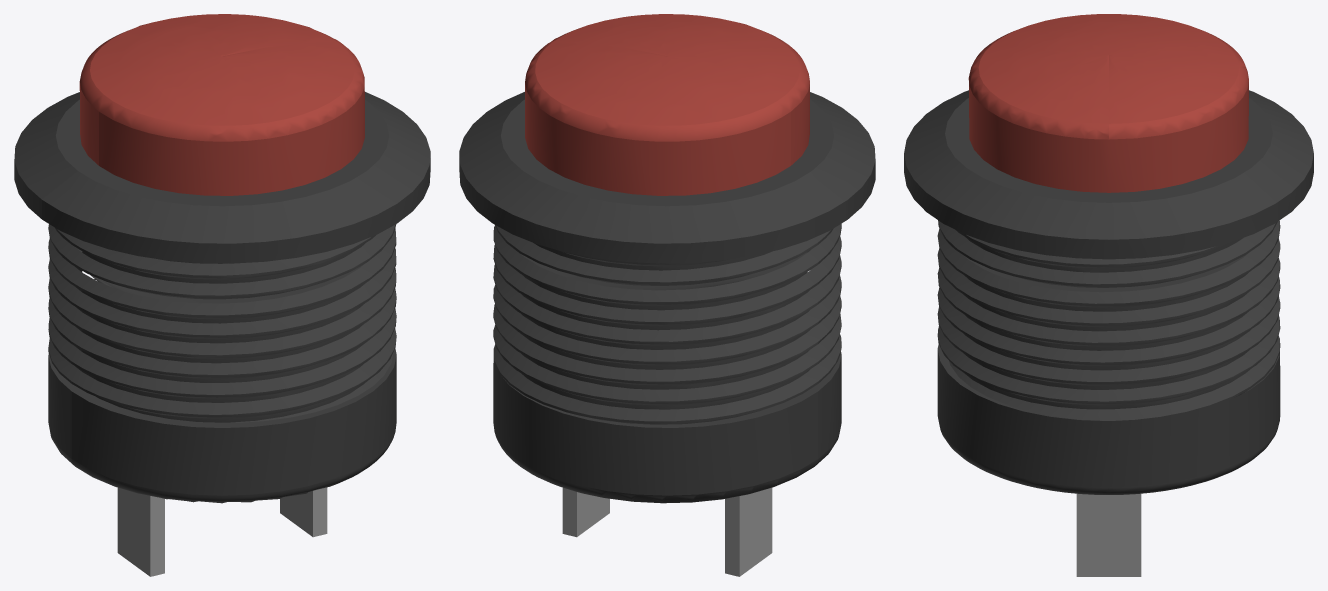
The model's file is ada-1145.glb.
3 views of the same model, side by side, from view 1: azimuth 30°, elevation 25°; view 2: azimuth 150°, elevation 25°; view 3: azimuth 270°, elevation 25° (orthographic).
Parts seen in each view (by area): view 1: 0.08333333333333333_0.08333333333333333_0.08333333333333333_, 0.4166666666666667_0.08333333333333333_0.08333333333333333_0, 0.3333333333333333_0.3333333333333333_0.3333333333333333_0; view 2: 0.08333333333333333_0.08333333333333333_0.08333333333333333_, 0.4166666666666667_0.08333333333333333_0.08333333333333333_0, 0.3333333333333333_0.3333333333333333_0.3333333333333333_0; view 3: 0.08333333333333333_0.08333333333333333_0.08333333333333333_, 0.4166666666666667_0.08333333333333333_0.08333333333333333_0, 0.3333333333333333_0.3333333333333333_0.3333333333333333_0.
Boxes of the visible parts, <box> form: 0.08333333333333333_0.08333333333333333_0.08333333333333333_: <box>14,92,430,503</box>; 0.4166666666666667_0.08333333333333333_0.08333333333333333_0: <box>79,14,364,195</box>; 0.3333333333333333_0.3333333333333333_0.3333333333333333_0: <box>117,487,327,576</box>; 0.08333333333333333_0.08333333333333333_0.08333333333333333_: <box>459,92,875,503</box>; 0.4166666666666667_0.08333333333333333_0.08333333333333333_0: <box>525,14,809,195</box>; 0.3333333333333333_0.3333333333333333_0.3333333333333333_0: <box>562,487,772,576</box>; 0.08333333333333333_0.08333333333333333_0.08333333333333333_: <box>904,90,1313,494</box>; 0.4166666666666667_0.08333333333333333_0.08333333333333333_0: <box>968,14,1248,192</box>; 0.3333333333333333_0.3333333333333333_0.3333333333333333_0: <box>1076,493,1141,576</box>.
Size of the model in its own units: 1.9 by 2.45 by 1.9.
